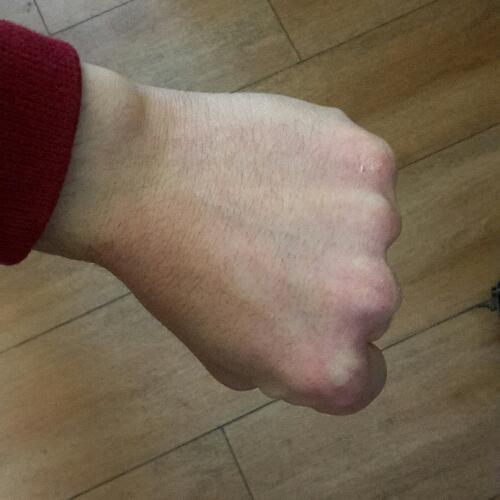rock: (123, 75, 416, 424)
